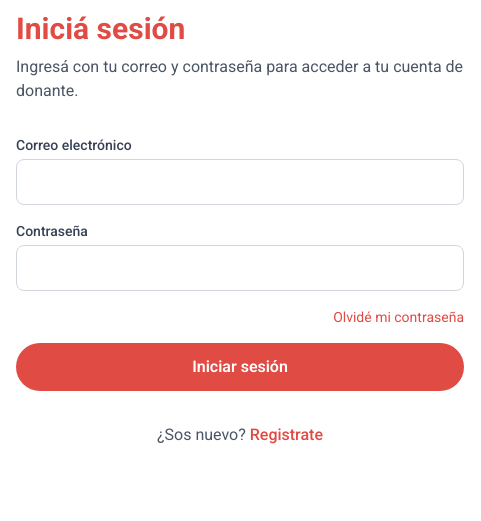
Test: LoginDonantePage › Debe mostrar mensaje de error si el login falla (NO redirige)
Type "test@example.com" into the field labelled "Correo electrónico" at (240, 182), box [16,159,464,205]
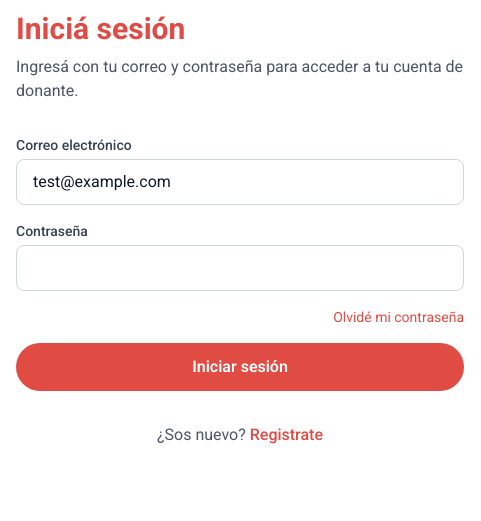
Type "wrongpassword" into the password field labelled "Contraseña" at (240, 268), box [16,245,464,291]
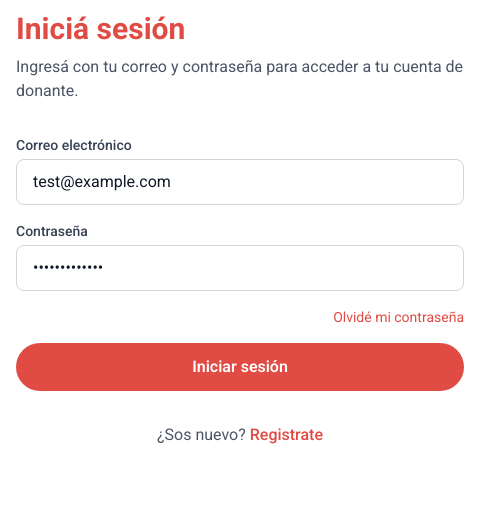
Click the button "Iniciar sesión" at (240, 367), box [16,343,464,391]
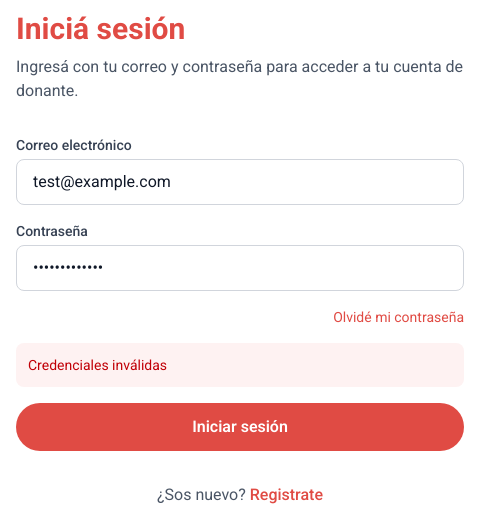
Expected: the text "Credenciales inválidas" is shown, [16,343,464,387]
